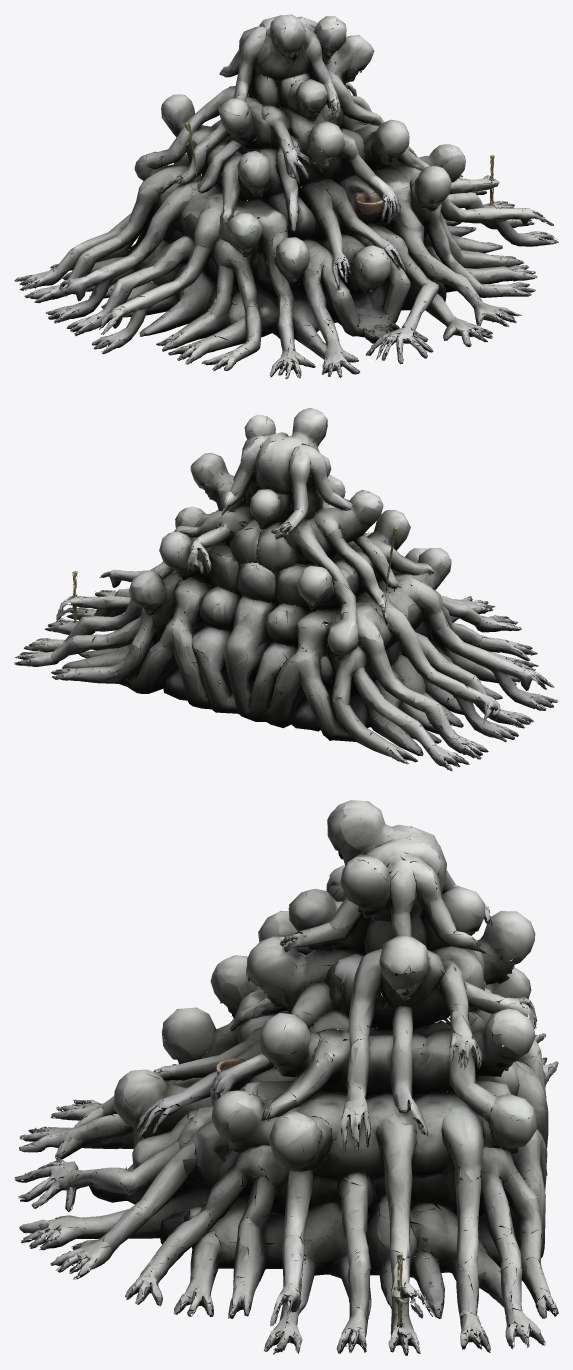
Rendered from buried_gang.glb.
3 views of the same model, one above another, from view 1: azimuth 30°, elevation 25°; view 2: azimuth 150°, elevation 25°; view 3: azimuth 270°, elevation 25° (orthographic). The views are drawn at different scales.
Parts seen in each view (by area): view 1: model; view 2: model; view 3: model.
Part boxes in pixels (<box>): model: <box>14,14,558,379</box>; model: <box>14,408,558,771</box>; model: <box>14,800,558,1355</box>.
Size of the model in its own units: 5.53 by 3 by 3.85.
Materials: 1 (1 with a texture image).
